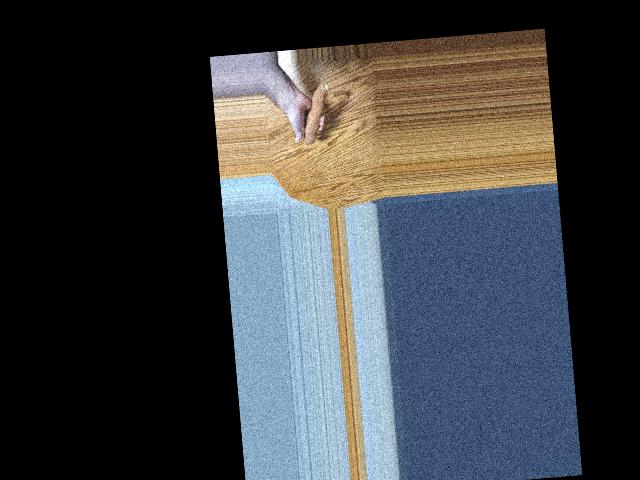sweet_potato: (298, 81, 332, 145)
